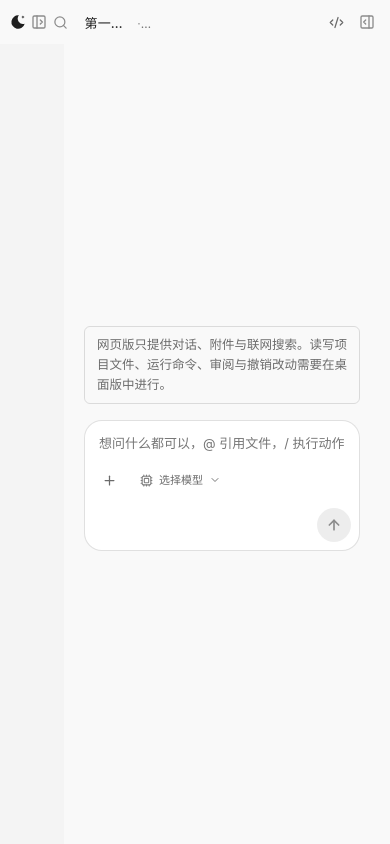
Scenario: DesktopLayout › 网页版说明本地执行能力边界，不提供无法生效的项目与执行模式入口
Check: the text "网页版只提供对话、附件与联网搜索。读写项目文件、运行命令、审阅与撤销改动需要在桌面版中进行。" is shown, box 84,326 -> 360,404
Check: the text box labelled "想问什么都可以，@ 引用文件，/ 执行动作" is enabled, box 99,434 -> 345,454
Click the button named "展开成果面板" at (367, 22), box 352,7 -> 382,37
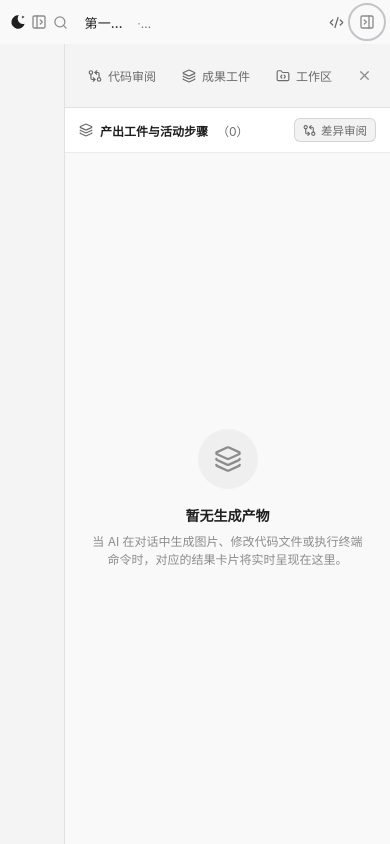
Click the tab "代码审阅" at (122, 76), box 77,58 -> 167,93
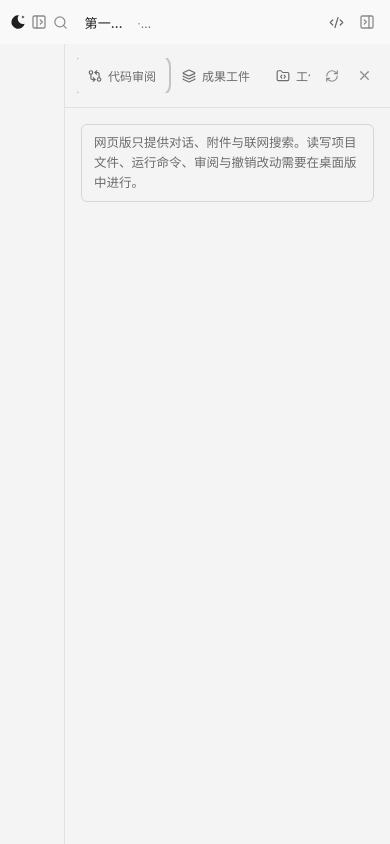
Check: the text "网页版只提供对话、附件与联网搜索。读写项目文件、运行命令、审阅与撤销改动需要在桌面版中进行。" is shown, box 81,124 -> 374,202
